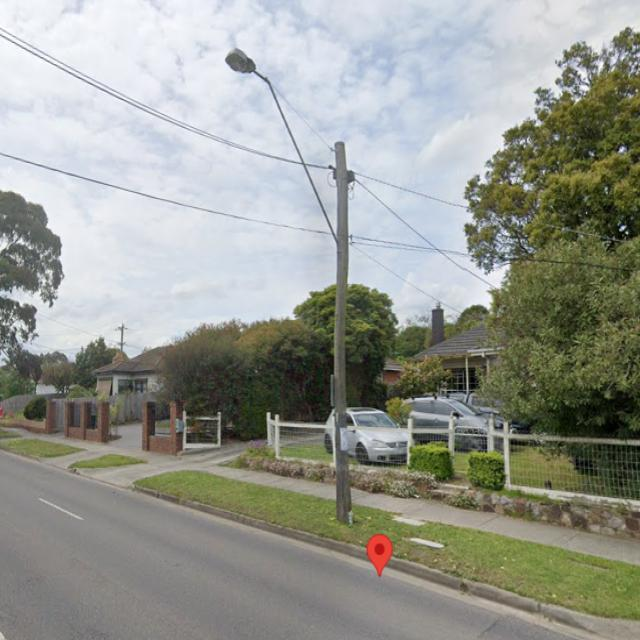streetlight: (225, 47, 342, 247)
timber-pole: (334, 140, 354, 524)
